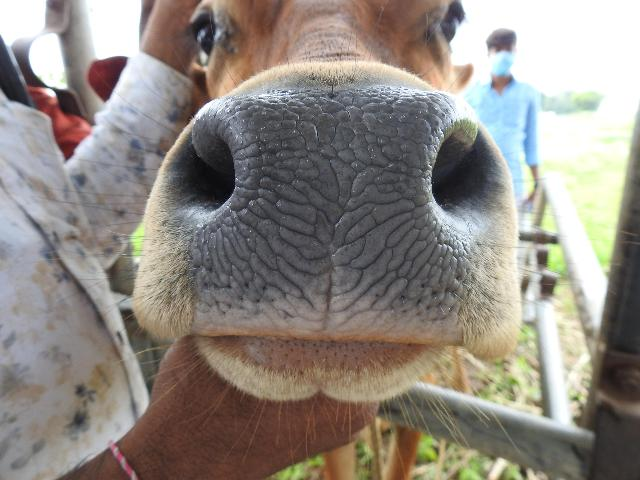Muzzle: (246, 94, 424, 324)
